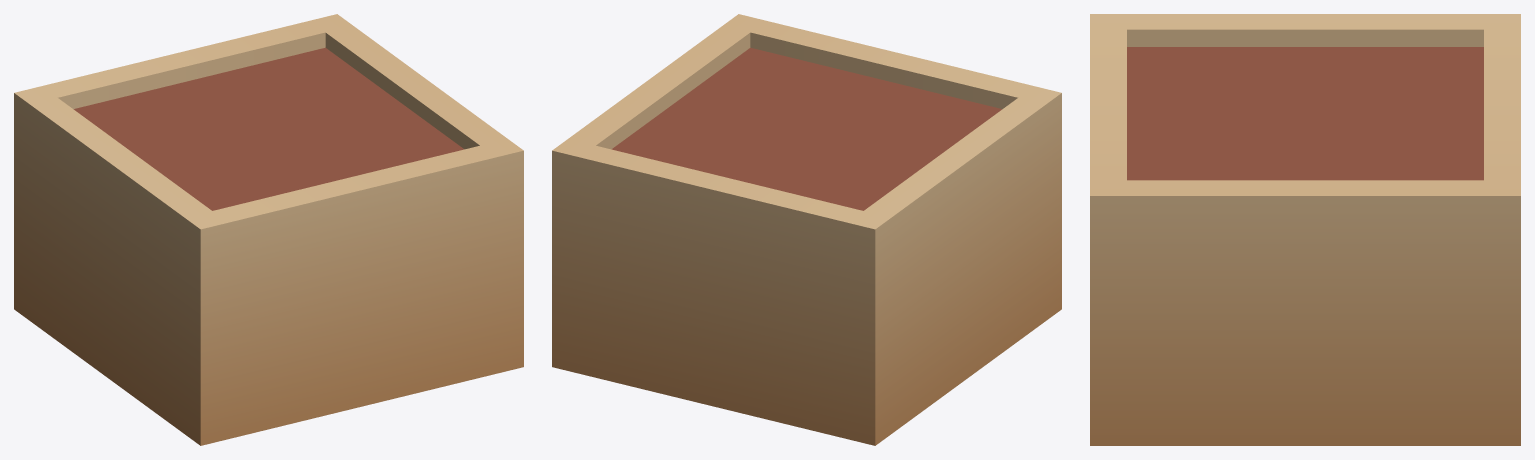
File: MediumHouse03.fbx
3 views of the same model, side by side, from view 1: azimuth 30°, elevation 25°; view 2: azimuth 150°, elevation 25°; view 3: azimuth 270°, elevation 25° (orthographic). The views are drawn at different scales.
Parts seen in each view (by area): view 1: MediumHouse03; view 2: MediumHouse03; view 3: MediumHouse03.
Part boxes in pixels (x1,y1,x2,y2): MediumHouse03: (14, 14, 523, 445); MediumHouse03: (552, 14, 1061, 445); MediumHouse03: (1090, 14, 1520, 445).
Size of the model in its own units: 2.5 by 1.6 by 2.5.
1 material, 1 textured.
